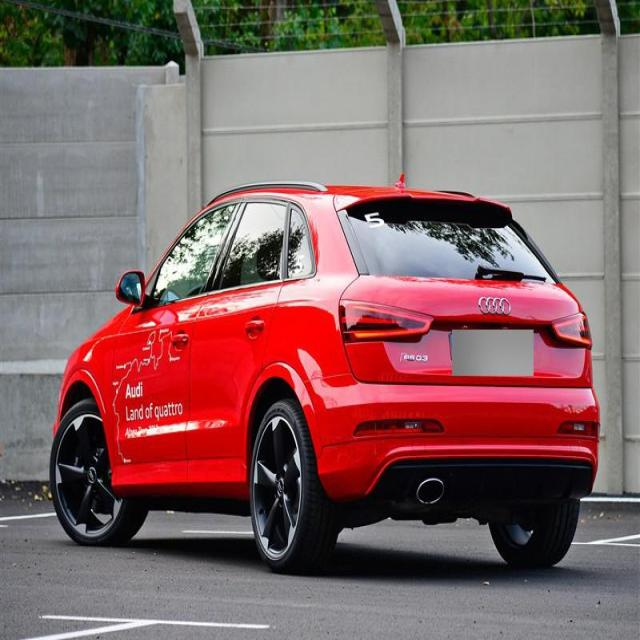back_glass: (340, 195, 566, 286)
back_left_side_light: (337, 297, 434, 345)
back_right_side_light: (548, 308, 594, 351)
door: (187, 202, 292, 484)
front_left_side_door: (108, 195, 242, 486)
front_left_side_mirror: (117, 264, 149, 307)
rear_bumper: (299, 372, 602, 503)
wheel: (247, 398, 338, 574), (49, 398, 150, 546), (487, 511, 581, 570)
